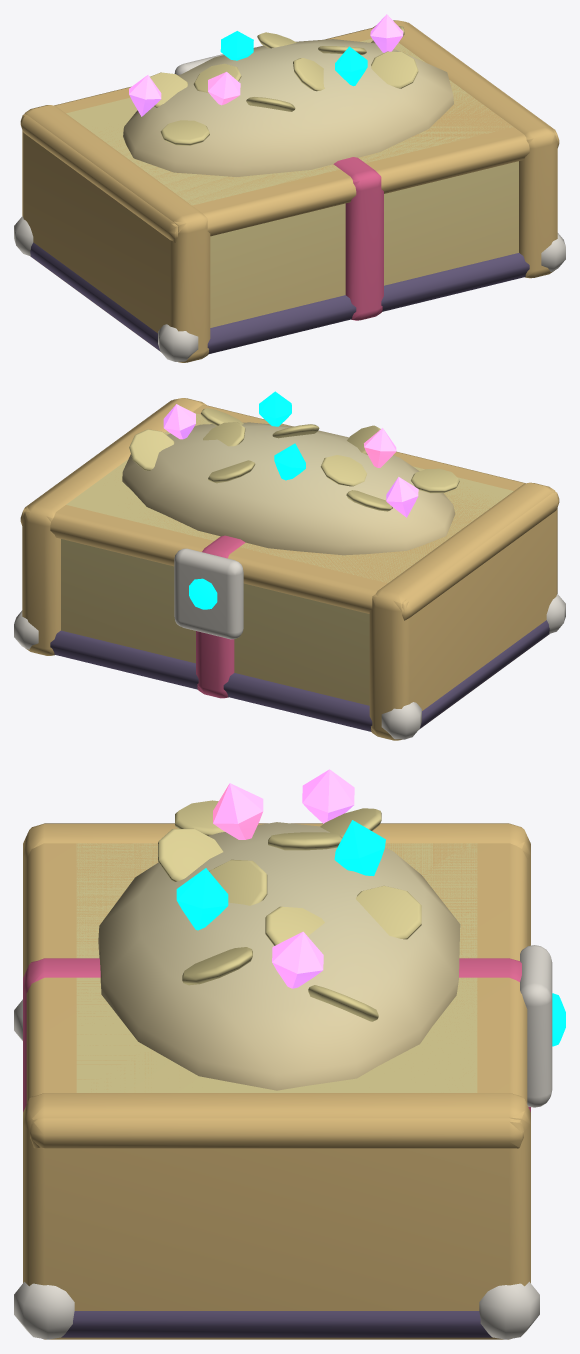
The model's file is chest.glb.
3 renders of one model, top to bottom at view 1: azimuth 30°, elevation 25°; view 2: azimuth 150°, elevation 25°; view 3: azimuth 270°, elevation 25°, orthographic. The views are drawn at different scales.
Visible parts, largest first — view 1: Body, Glow_7B2FF7, Glow_00E5FF, Glow_FF2E63; view 2: Body, Glow_00E5FF, Glow_7B2FF7, Glow_FF2E63; view 3: Body, Glow_00E5FF, Glow_7B2FF7, Glow_FF2E63.
Boxes of the visible parts, x1=… form: Body: x1=14, y1=20, x2=565, y2=362; Glow_7B2FF7: x1=129, y1=14, x2=403, y2=116; Glow_00E5FF: x1=220, y1=31, x2=367, y2=86; Glow_FF2E63: x1=208, y1=72, x2=240, y2=105; Body: x1=14, y1=398, x2=565, y2=740; Glow_00E5FF: x1=189, y1=391, x2=305, y2=609; Glow_7B2FF7: x1=163, y1=404, x2=418, y2=517; Glow_FF2E63: x1=364, y1=428, x2=396, y2=467; Body: x1=14, y1=800, x2=552, y2=1339; Glow_00E5FF: x1=176, y1=820, x2=565, y2=1046; Glow_7B2FF7: x1=272, y1=769, x2=354, y2=988; Glow_FF2E63: x1=213, y1=783, x2=263, y2=839.
Bounding box in the file's own units: 10.35 × 5.54 × 7.72.
